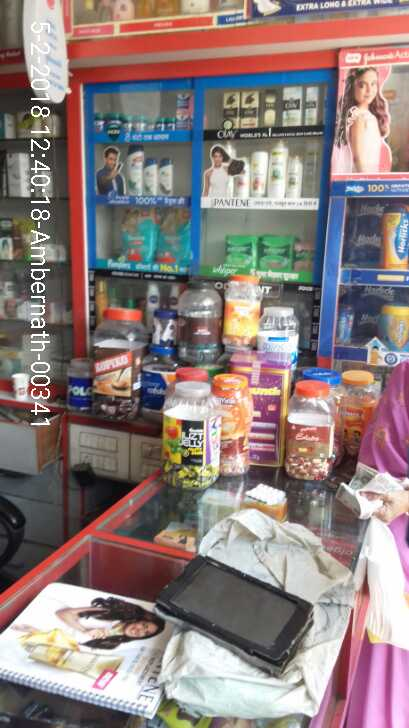beauty: (249, 146, 266, 203), (285, 150, 303, 203), (282, 85, 304, 125), (270, 140, 284, 200), (158, 157, 179, 196), (142, 154, 159, 197), (241, 86, 258, 127), (263, 87, 277, 129), (222, 91, 238, 127), (129, 141, 139, 198), (307, 84, 319, 128)
pharmacy: (148, 201, 196, 256), (118, 202, 152, 262), (253, 232, 287, 271), (222, 230, 251, 268), (290, 244, 314, 273), (174, 93, 192, 130), (154, 110, 175, 133), (106, 107, 126, 128), (90, 108, 107, 132), (134, 114, 146, 134), (120, 116, 133, 134)
